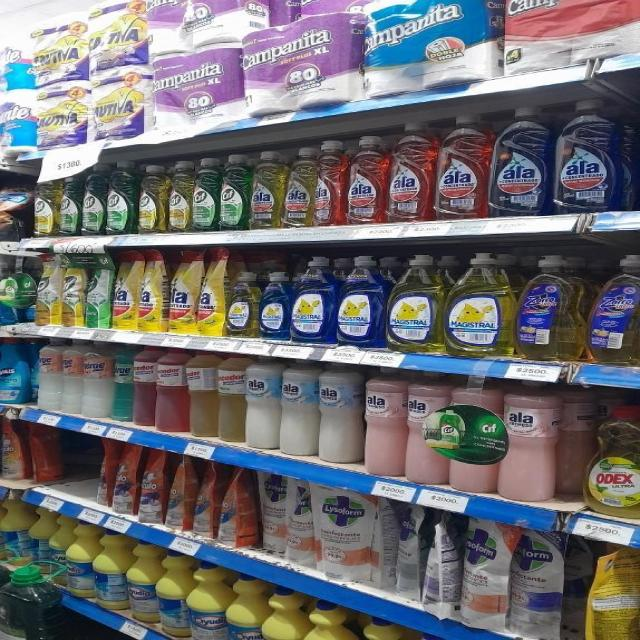ala_conc_amarillo: (250, 150, 284, 229), (284, 146, 314, 228)
ala_conc_azul: (554, 96, 626, 213), (492, 105, 552, 217)
ala_conc_rojo: (435, 113, 489, 221), (387, 120, 434, 223), (345, 135, 386, 225), (314, 140, 344, 226)
ala_crem_blanco: (318, 362, 362, 464), (281, 359, 316, 457), (246, 355, 279, 451), (218, 353, 245, 444)
ala_crem_rosado: (501, 384, 563, 502), (364, 367, 404, 478), (405, 371, 437, 484)
ala_sachet_amarillo: (168, 249, 198, 335), (198, 248, 226, 336), (138, 250, 166, 332), (113, 249, 137, 330)
cif_conc_bot_amarilla: (137, 163, 166, 232), (168, 159, 191, 233), (33, 175, 57, 237)
cif_conc_botella_verde: (219, 154, 248, 230), (106, 160, 135, 235), (192, 156, 217, 232), (81, 162, 105, 236), (58, 169, 80, 237)
cif_conc_sachet_amarillo: (62, 252, 84, 327)
heroe: (82, 340, 112, 419), (34, 337, 62, 412), (112, 343, 134, 423), (62, 338, 82, 415)
magistral_con_amarillo: (445, 252, 513, 357), (387, 253, 443, 352), (228, 271, 258, 338)
magistral_con_azul: (336, 255, 384, 348), (290, 255, 334, 344), (260, 269, 290, 340)
odex: (583, 401, 640, 516)
zorro: (516, 253, 583, 361), (587, 252, 639, 365)
